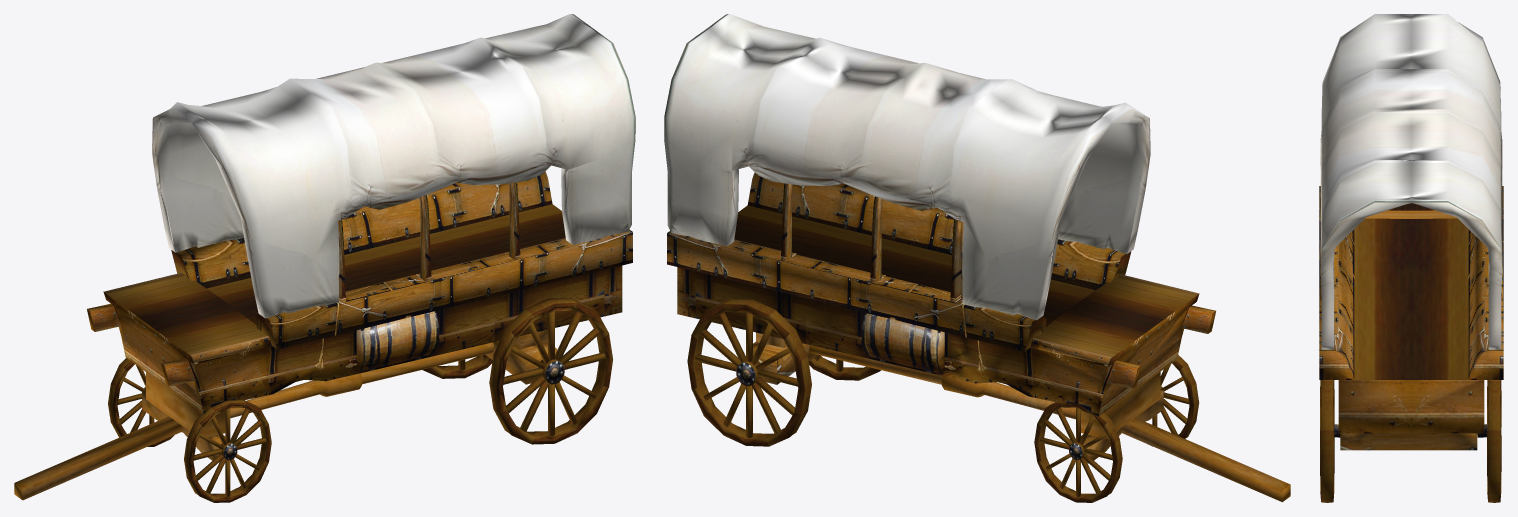
The model's file is wagon2.fbx.
3 views of the same model, side by side, from view 1: azimuth 30°, elevation 25°; view 2: azimuth 150°, elevation 25°; view 3: azimuth 270°, elevation 25° (orthographic). The views are drawn at different scales.
Parts seen in each view (by area): view 1: U3DMesh; view 2: U3DMesh; view 3: U3DMesh.
Part boxes in pixels (x1,y1,x2,y2): U3DMesh: (14, 14, 635, 502); U3DMesh: (664, 14, 1290, 502); U3DMesh: (1319, 14, 1503, 502).
Size of the model in its own units: 9.31 by 5.68 by 2.78.
1 material, 1 textured.
